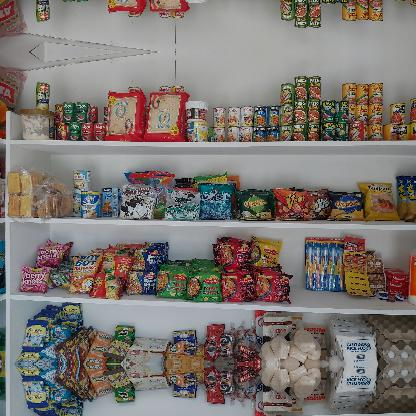Lady-s-Choice: (19, 108, 57, 140)
